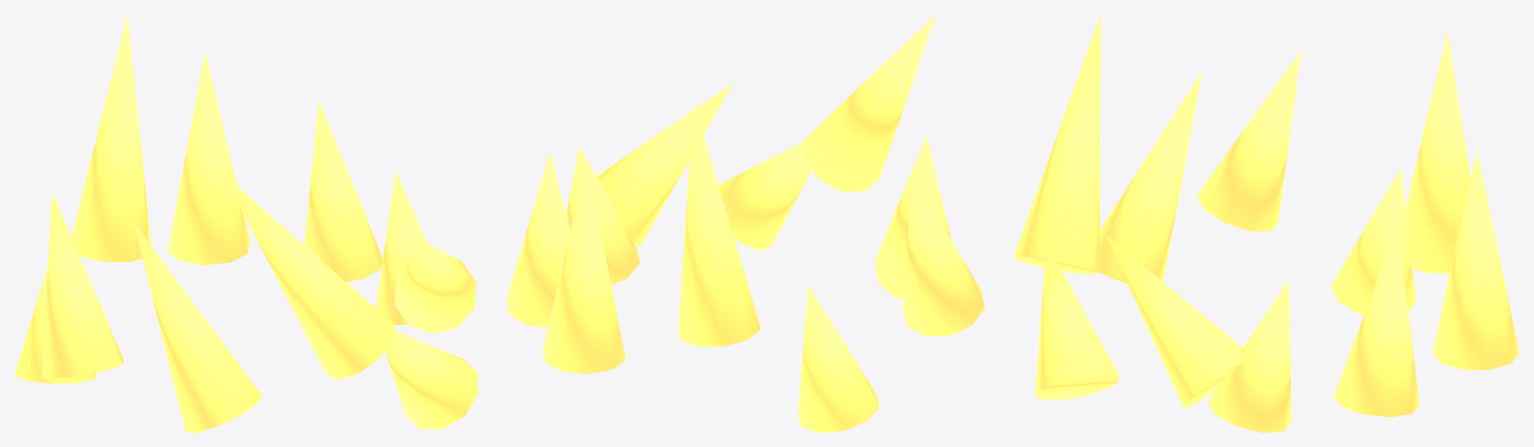
File: flame_mane.glb
3 renders of one model, left to right at view 1: azimuth 30°, elevation 25°; view 2: azimuth 150°, elevation 25°; view 3: azimuth 270°, elevation 25°, orthographic. The views are drawn at different scales.
Parts seen in each view (by area): view 1: flame_7, flame_3, flame_6, flame_2, flame_5, flame_1, flame_8, flame_9, flame_0, flame_4; view 2: flame_3, flame_2, flame_7, flame_5, flame_4, flame_9, flame_1, flame_8, flame_6, flame_0; view 3: flame_7, flame_2, flame_3, flame_1, flame_5, flame_6, flame_9, flame_8, flame_0, flame_4.
Boxes of the visible parts, bbox=[...] form: flame_7: bbox=[223, 174, 394, 379]; flame_3: bbox=[71, 15, 151, 262]; flame_6: bbox=[134, 223, 261, 432]; flame_2: bbox=[167, 52, 250, 265]; flame_5: bbox=[42, 192, 124, 378]; flame_1: bbox=[304, 100, 382, 281]; flame_8: bbox=[385, 330, 477, 429]; flame_9: bbox=[394, 240, 476, 333]; flame_0: bbox=[376, 171, 427, 324]; flame_4: bbox=[14, 266, 96, 383]; flame_3: bbox=[678, 102, 760, 346]; flame_2: bbox=[542, 160, 625, 373]; flame_7: bbox=[804, 14, 935, 191]; flame_5: bbox=[902, 175, 984, 335]; flame_4: bbox=[798, 285, 879, 432]; flame_9: bbox=[596, 84, 732, 246]; flame_1: bbox=[506, 152, 570, 327]; flame_8: bbox=[718, 141, 811, 251]; flame_6: bbox=[875, 136, 951, 298]; flame_0: bbox=[566, 146, 639, 284]; flame_7: bbox=[1013, 15, 1100, 274]; flame_2: bbox=[1432, 150, 1519, 369]; flame_3: bbox=[1399, 31, 1470, 273]; flame_1: bbox=[1333, 227, 1419, 417]; flame_5: bbox=[1196, 50, 1301, 231]; flame_6: bbox=[1099, 72, 1202, 283]; flame_9: bbox=[1105, 234, 1245, 408]; flame_8: bbox=[1035, 259, 1119, 400]; flame_0: bbox=[1207, 279, 1291, 432]; flame_4: bbox=[1330, 168, 1415, 314].
Bounding box in the file's own units: 1.12 × 0.8243 × 1.16.
